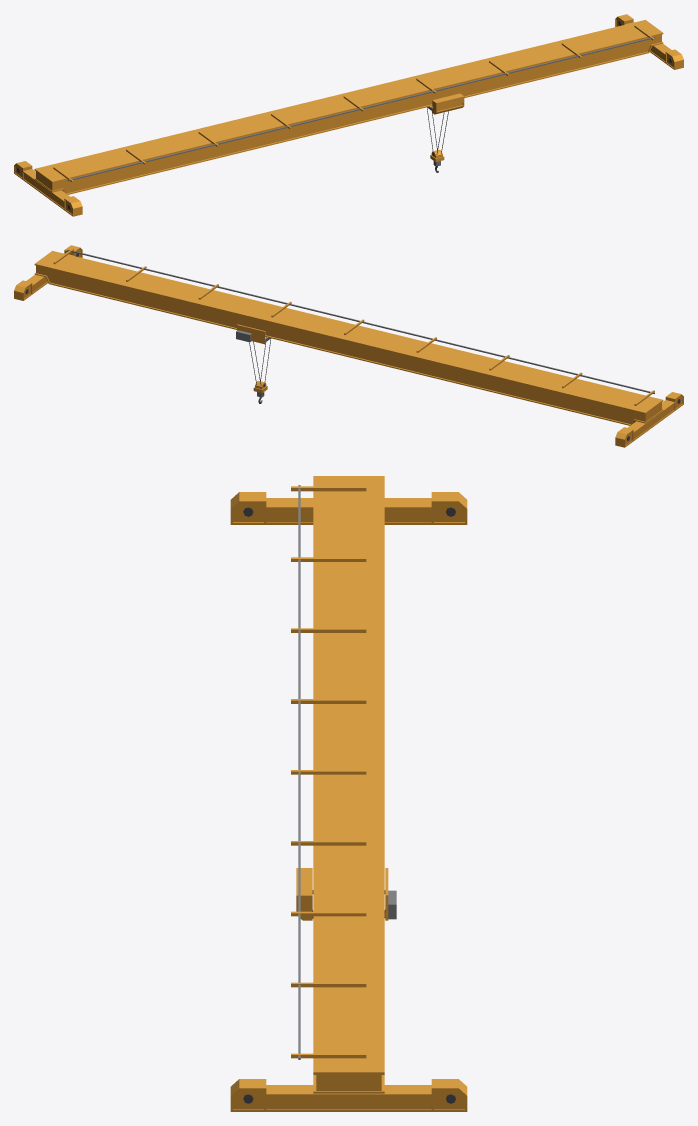
File: Overhead_Crane01.glb
The picture shows the model from 3 angles, top to bottom: view 1: azimuth 30°, elevation 25°; view 2: azimuth 150°, elevation 25°; view 3: azimuth 270°, elevation 25°; orthographic projection. The views are drawn at different scales.
Parts seen in each view (by area): view 1: Crane_Body, Crane_Hook; view 2: Crane_Body, Crane_Hook; view 3: Crane_Body, Crane_Hook.
Part boxes in pixels (x1,y1,x2,y2): Crane_Body: [14, 14, 683, 216]; Crane_Hook: [427, 93, 464, 172]; Crane_Body: [14, 245, 683, 447]; Crane_Hook: [236, 324, 271, 403]; Crane_Body: [230, 476, 467, 1111]; Crane_Hook: [296, 868, 396, 920].
Size of the model in its own units: 30.01 by 4.47 by 5.03.
1 material, 1 textured.
